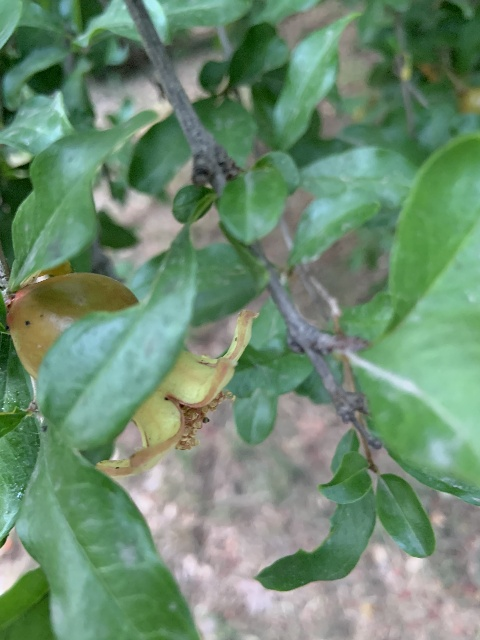early-fruit: (7, 271, 260, 476)
